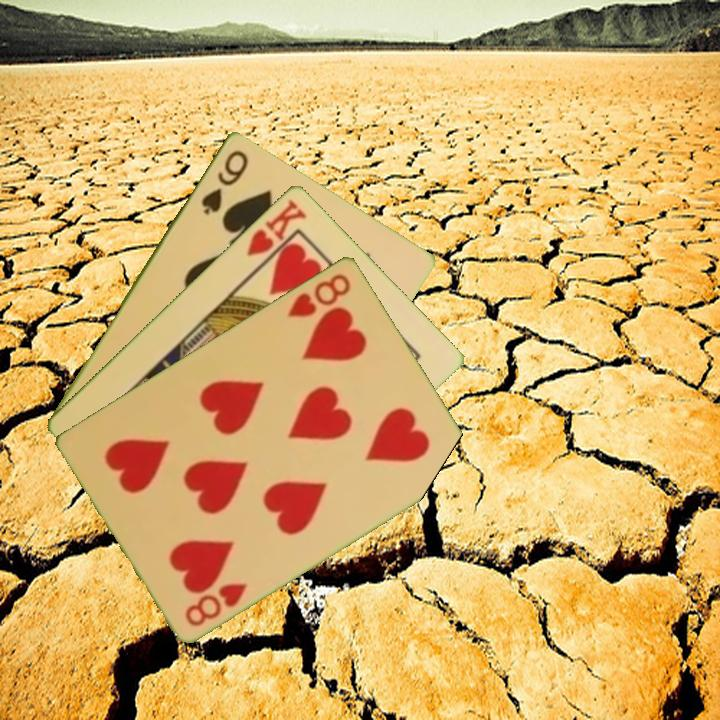8h: (283, 269, 354, 320), (181, 578, 251, 629)
9s: (197, 146, 251, 217)
Kh: (243, 194, 310, 272)
